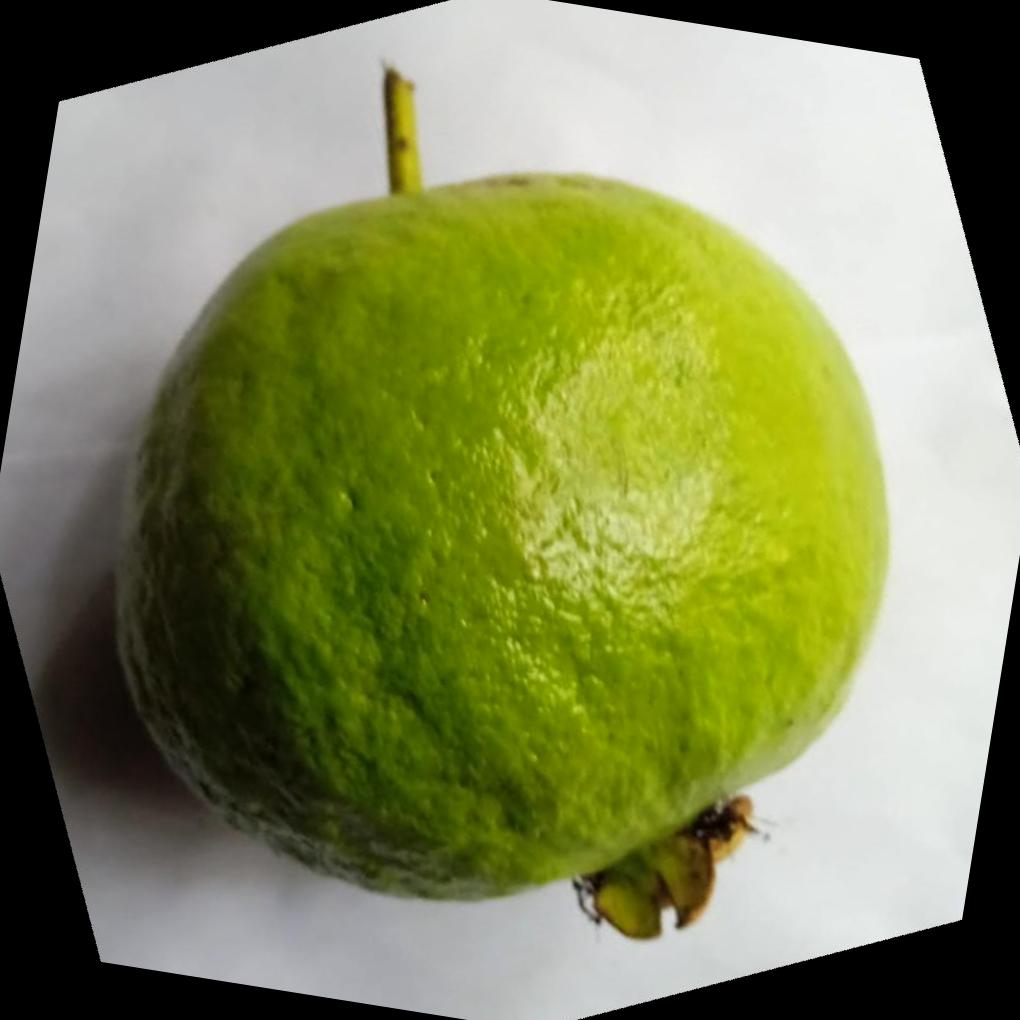FreshGuava: (110, 149, 890, 927)
